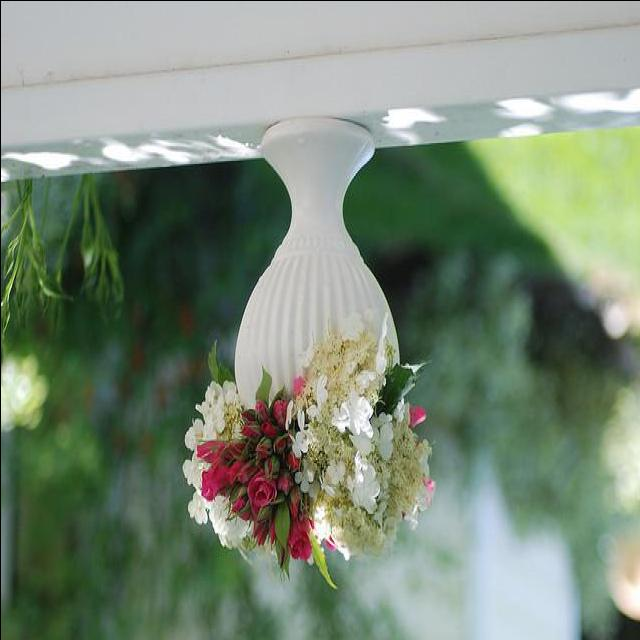pottedplant: (180, 110, 435, 594)
vase: (236, 115, 402, 407)
